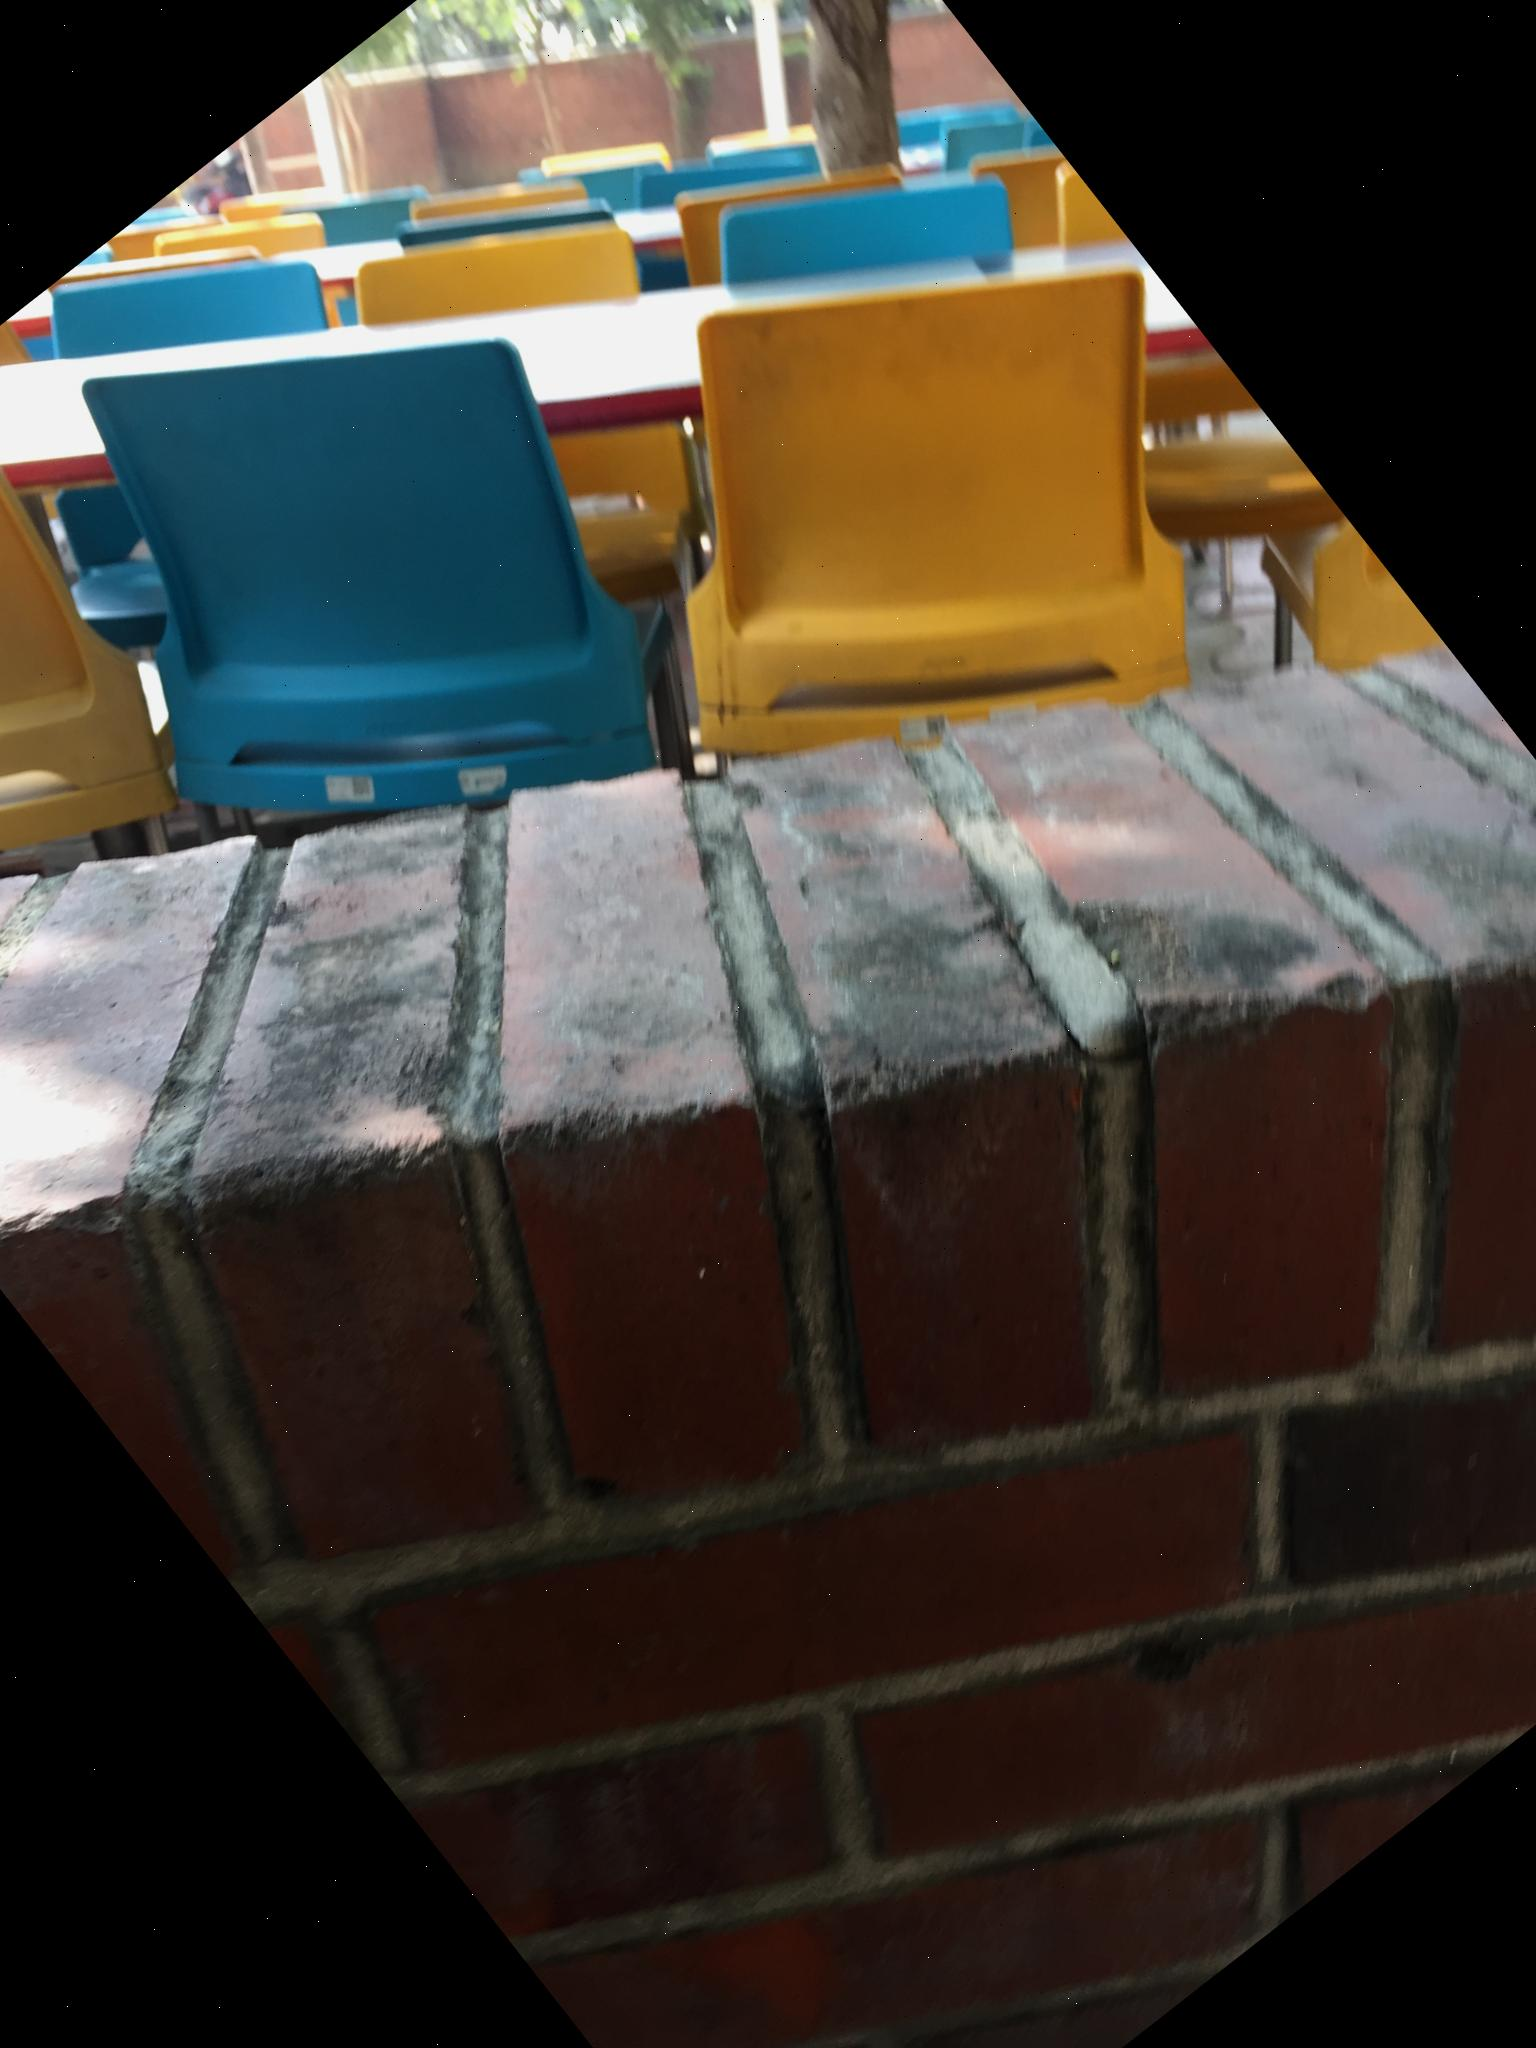chair: (490, 85, 1359, 945), (0, 158, 774, 1013), (0, 373, 253, 1084), (705, 61, 1039, 389), (340, 116, 658, 424)
